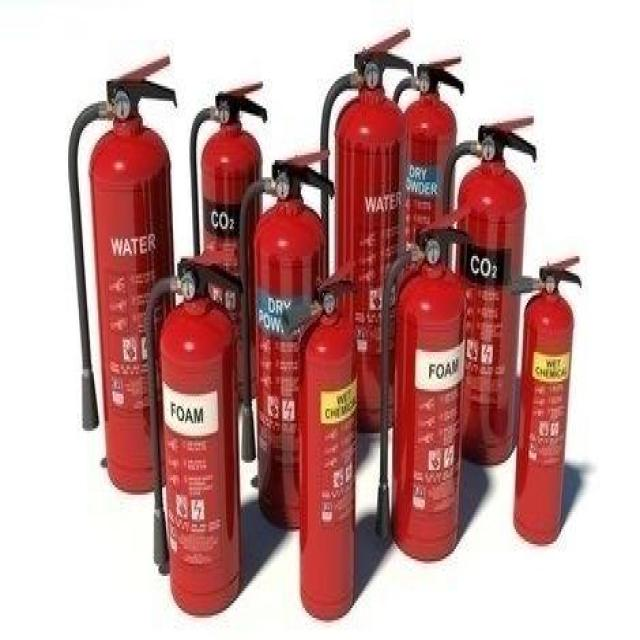fire_extinguisher: (62, 48, 180, 498), (314, 23, 416, 437), (235, 145, 338, 534), (139, 244, 245, 620), (432, 108, 538, 468), (372, 199, 472, 566), (277, 255, 363, 624), (383, 52, 464, 394), (186, 77, 270, 405), (503, 246, 584, 547)
